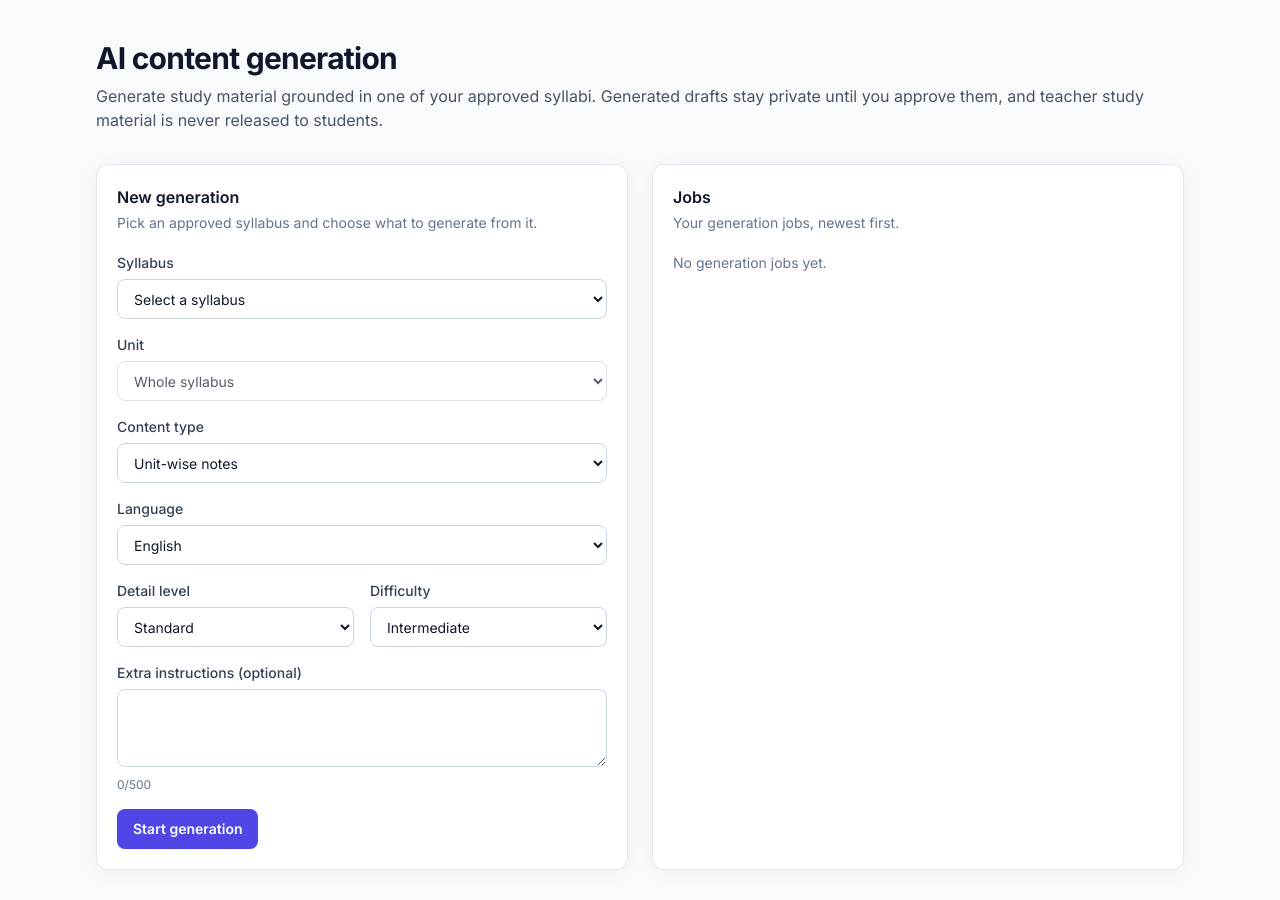
TeacherContent › shows a configuration message when the provider has no API key
This screenshot has width=1280, height=900.
Step 1. Select "CS101 · SEC-A (v2)" in the dropdown labelled "Syllabus" → (362, 299), box [117,279,607,319]
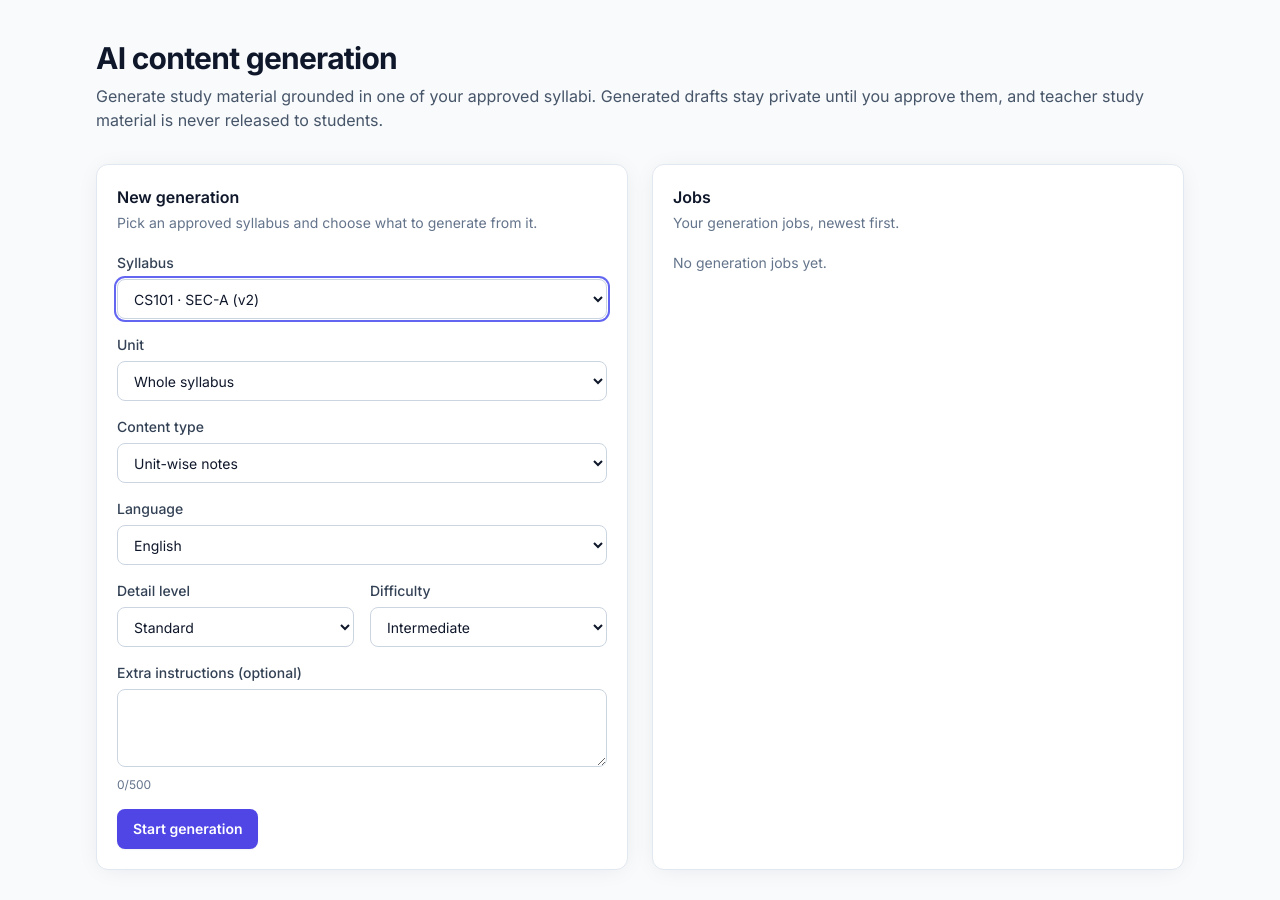
Step 2. Click the button "Start generation" → click(188, 829), box [117,809,258,849]
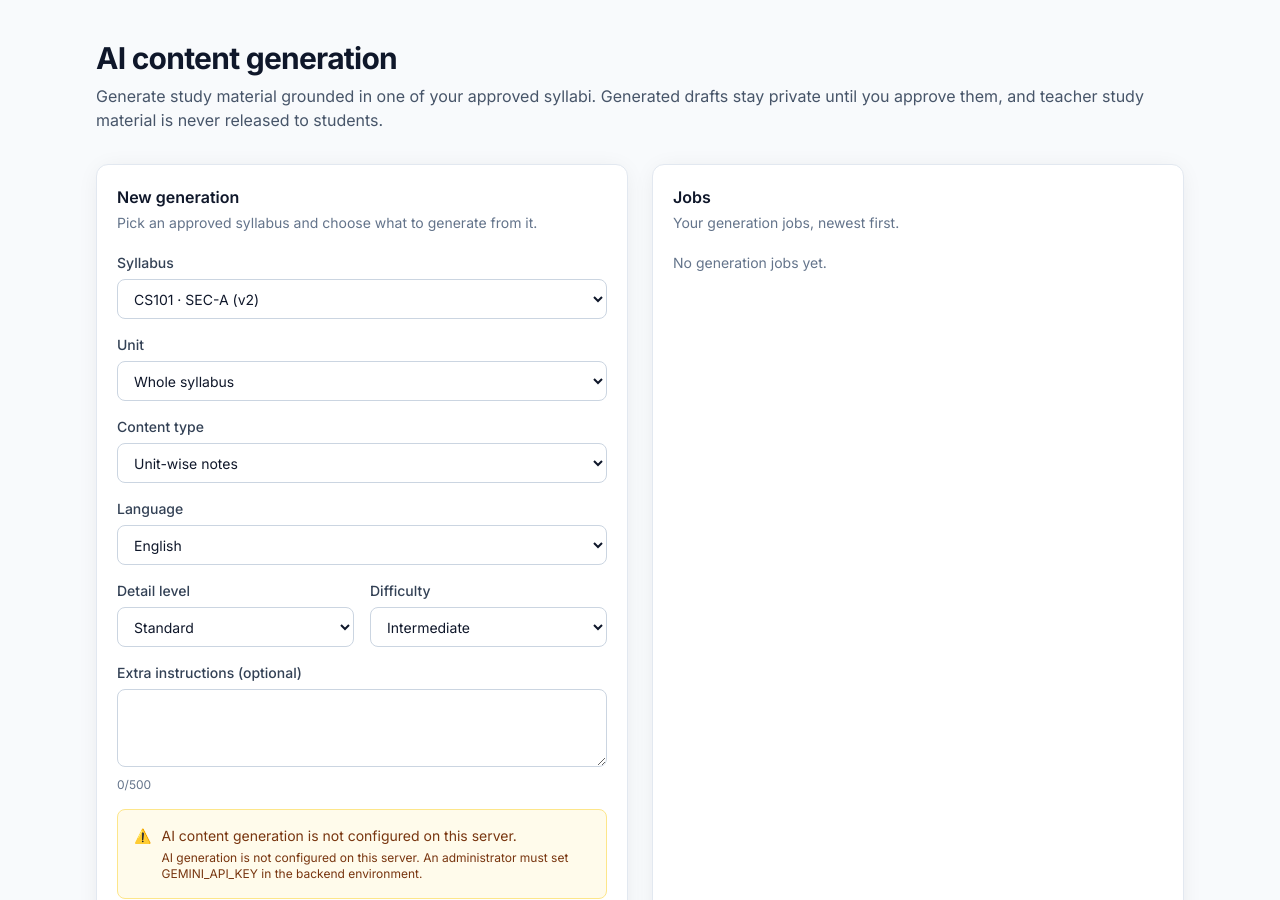
Now the text "AI content generation is not configured on this server." is shown, box [162,827,517,844]
Now the text "GEMINI_API_KEY" is shown, box [162,850,568,881]
